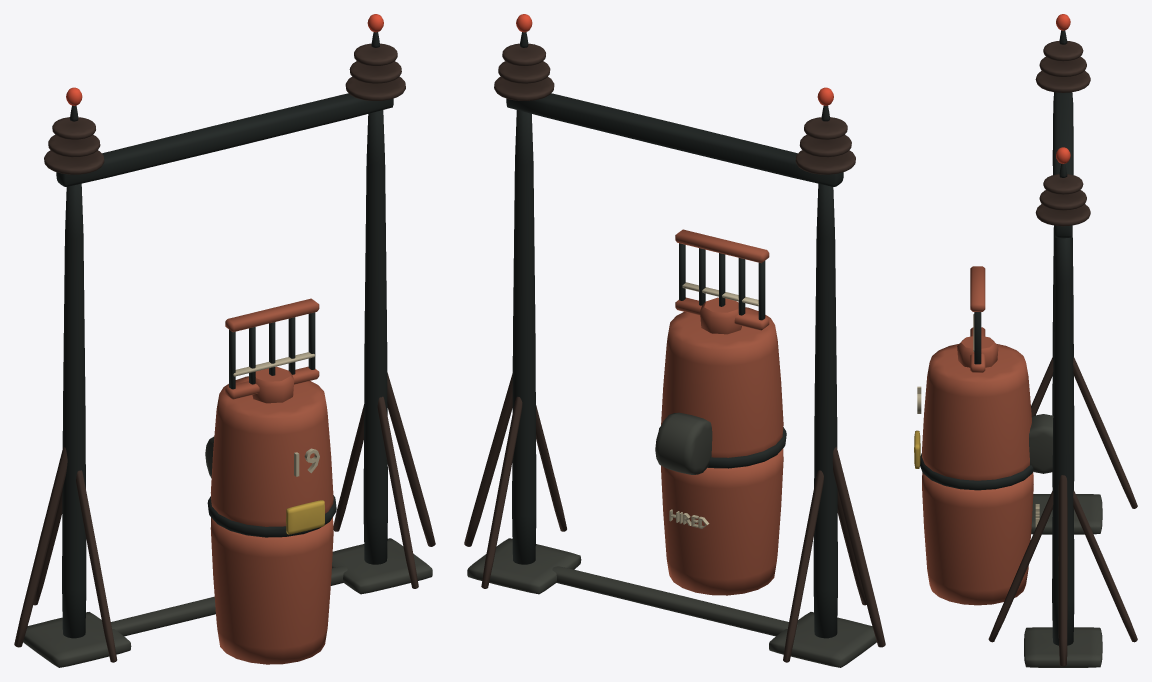
Rendered from enemy_netcaster.glb.
The picture shows the model from 3 angles, left to right: view 1: azimuth 30°, elevation 25°; view 2: azimuth 150°, elevation 25°; view 3: azimuth 270°, elevation 25°; orthographic projection. The views are drawn at different scales.
Parts seen in each view (by area): view 1: NetcasterBody; view 2: NetcasterBody; view 3: NetcasterBody.
Boxes of the visible parts, box(x1,y1,x2,y2) form: NetcasterBody: box(14, 14, 435, 667); NetcasterBody: box(464, 14, 885, 667); NetcasterBody: box(914, 14, 1137, 667).
Bounding box in the file's own units: 3.35 × 4.24 × 1.7.
